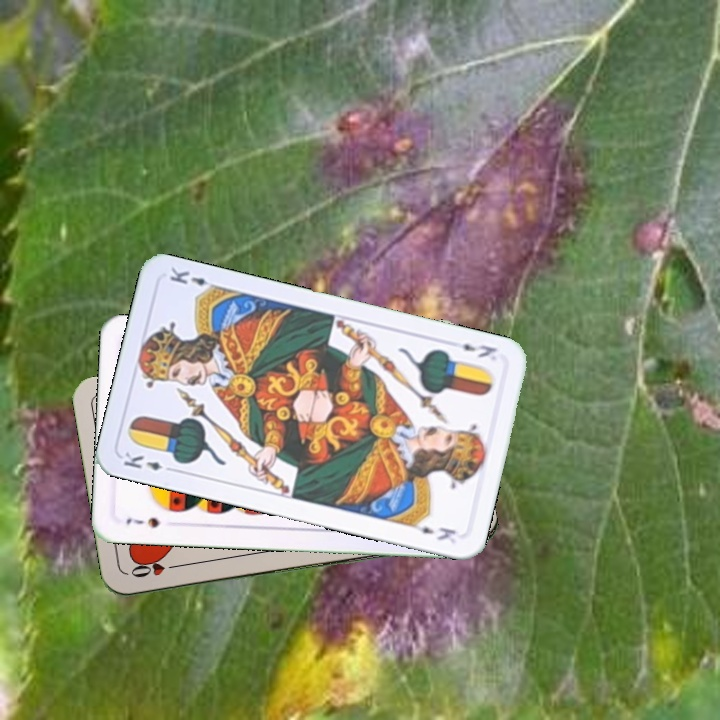EK: (119, 448, 178, 475), (458, 339, 500, 361)
HO: (126, 560, 184, 581)
S7: (122, 513, 162, 530)
